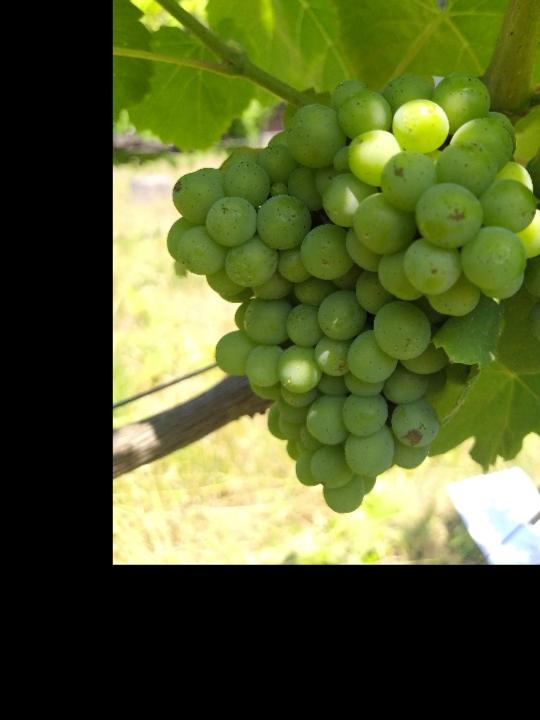grape: (165, 71, 540, 516)
